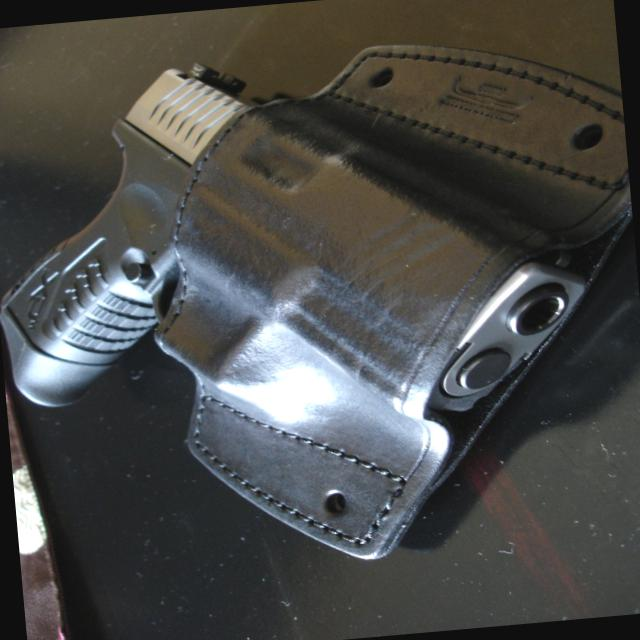handgun: (0, 31, 596, 460)
